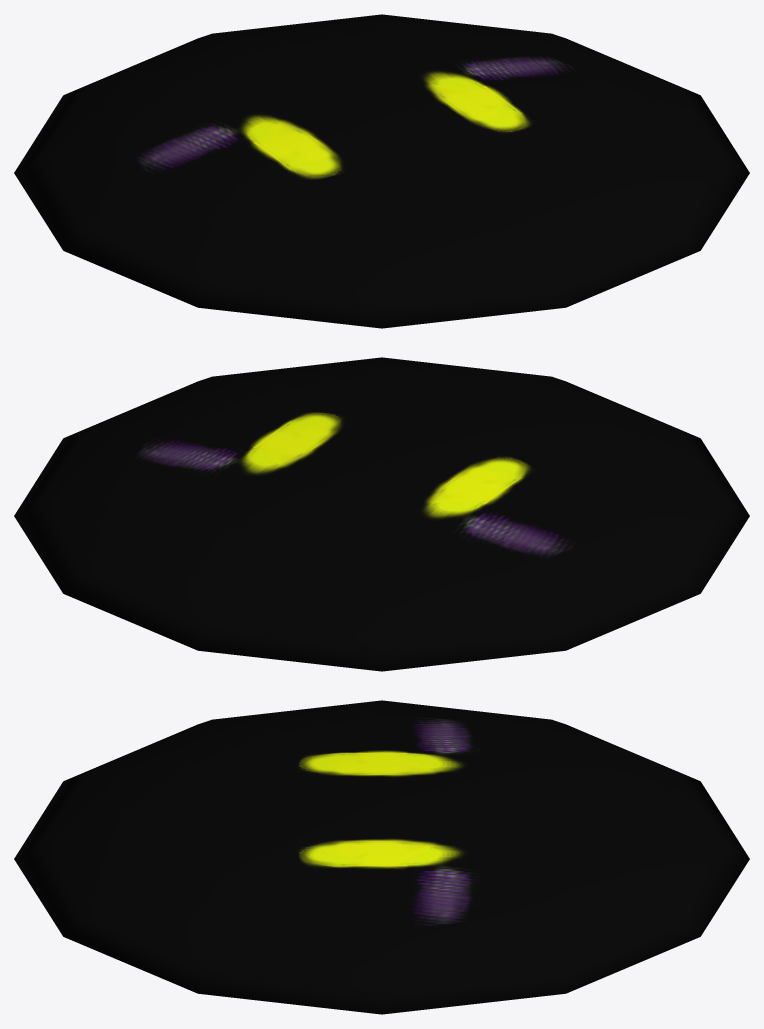
File: Shadow.fbx
The picture shows the model from 3 angles, top to bottom: view 1: azimuth 30°, elevation 25°; view 2: azimuth 150°, elevation 25°; view 3: azimuth 270°, elevation 25°; orthographic projection.
Parts seen in each view (by area): view 1: Shadow.M; view 2: Shadow.M; view 3: Shadow.M.
Boxes of the visible parts, bbox=[...] form: Shadow.M: bbox=[14, 14, 749, 328]; Shadow.M: bbox=[14, 357, 749, 671]; Shadow.M: bbox=[14, 700, 749, 1014].
Size of the model in its own units: 284 by 25.2 by 284.
